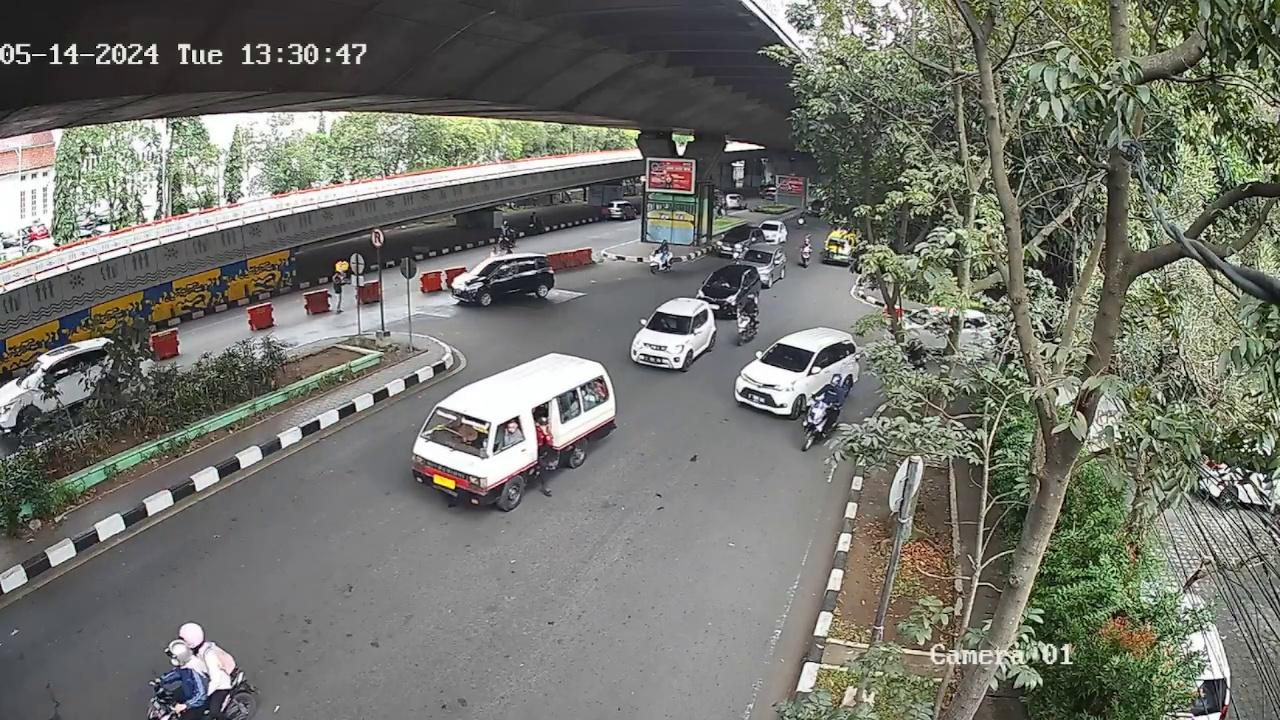pakai: (657, 316, 677, 329)
tidak-pakai: (448, 422, 473, 444)
windshield: (422, 408, 499, 456), (645, 306, 696, 338), (760, 341, 814, 371)
